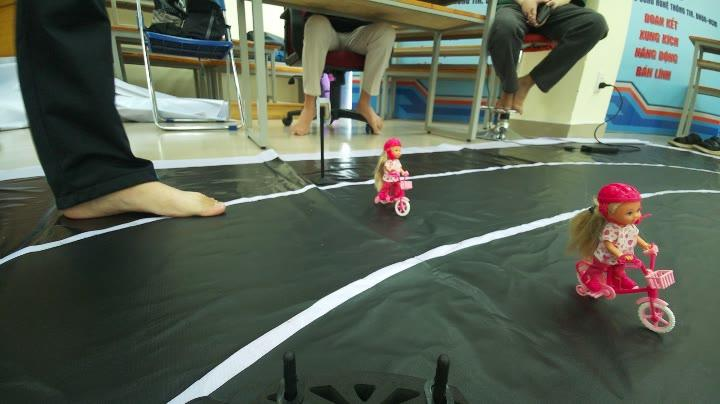pedestrian: (562, 176, 686, 344), (365, 130, 421, 219)
